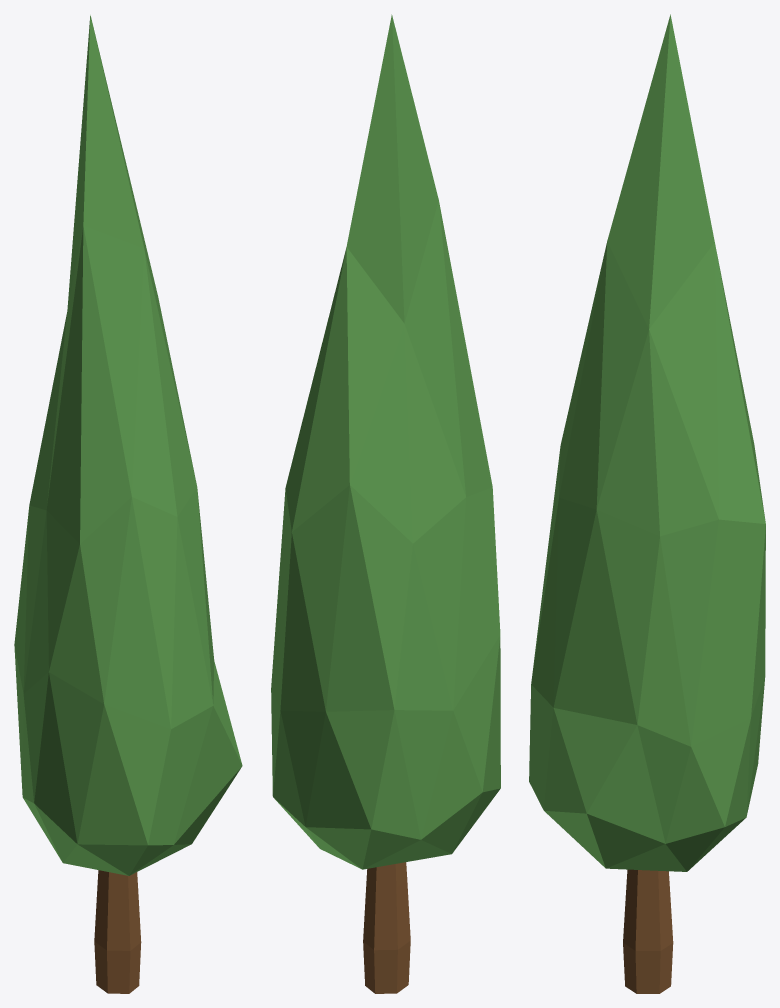
File: Baum.fbx
The picture shows the model from 3 angles, left to right: view 1: azimuth 30°, elevation 25°; view 2: azimuth 150°, elevation 25°; view 3: azimuth 270°, elevation 25°; orthographic projection. The views are drawn at different scales.
Parts seen in each view (by area): view 1: Icosphere, Cylinder; view 2: Icosphere, Cylinder; view 3: Icosphere, Cylinder.
Boxes of the visible parts, x1=… form: Icosphere: x1=14, y1=15, x2=242, y2=875; Cylinder: x1=94, y1=870, x2=141, y2=993; Icosphere: x1=271, y1=14, x2=500, y2=869; Cylinder: x1=363, y1=862, x2=410, y2=993; Icosphere: x1=529, y1=14, x2=765, y2=871; Cylinder: x1=623, y1=869, x2=673, y2=993.
Bounding box in the file's own units: 274 × 1375 × 306.
